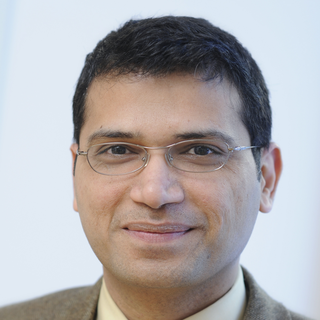eye: (92, 140, 145, 161), (176, 140, 226, 161)
